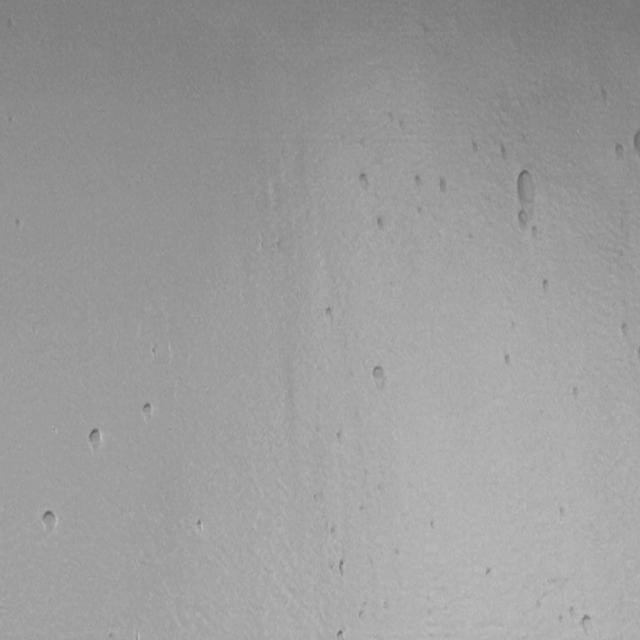pin holes: (514, 171, 540, 209), (369, 362, 391, 392), (37, 508, 60, 536), (84, 425, 106, 454), (355, 170, 374, 197), (578, 613, 598, 637), (514, 210, 532, 236), (618, 318, 636, 344), (554, 502, 574, 525), (568, 384, 586, 408), (372, 213, 390, 236), (333, 558, 351, 580), (191, 517, 209, 538), (139, 401, 155, 424), (613, 142, 627, 166), (437, 176, 452, 197), (323, 303, 338, 324), (530, 224, 546, 243), (498, 141, 510, 166), (482, 566, 498, 583), (502, 352, 516, 370), (334, 429, 348, 447), (412, 174, 425, 193), (328, 521, 340, 539), (13, 218, 25, 235), (630, 130, 639, 152), (540, 278, 552, 294), (470, 136, 480, 155), (568, 605, 580, 620), (335, 626, 349, 638), (357, 609, 368, 624), (149, 343, 159, 359), (429, 519, 438, 532), (395, 545, 403, 559)
